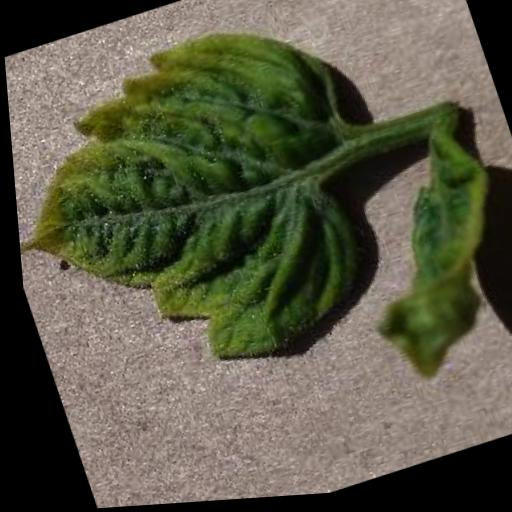Yellow Leaf Curl Virus: (2, 5, 409, 418)
